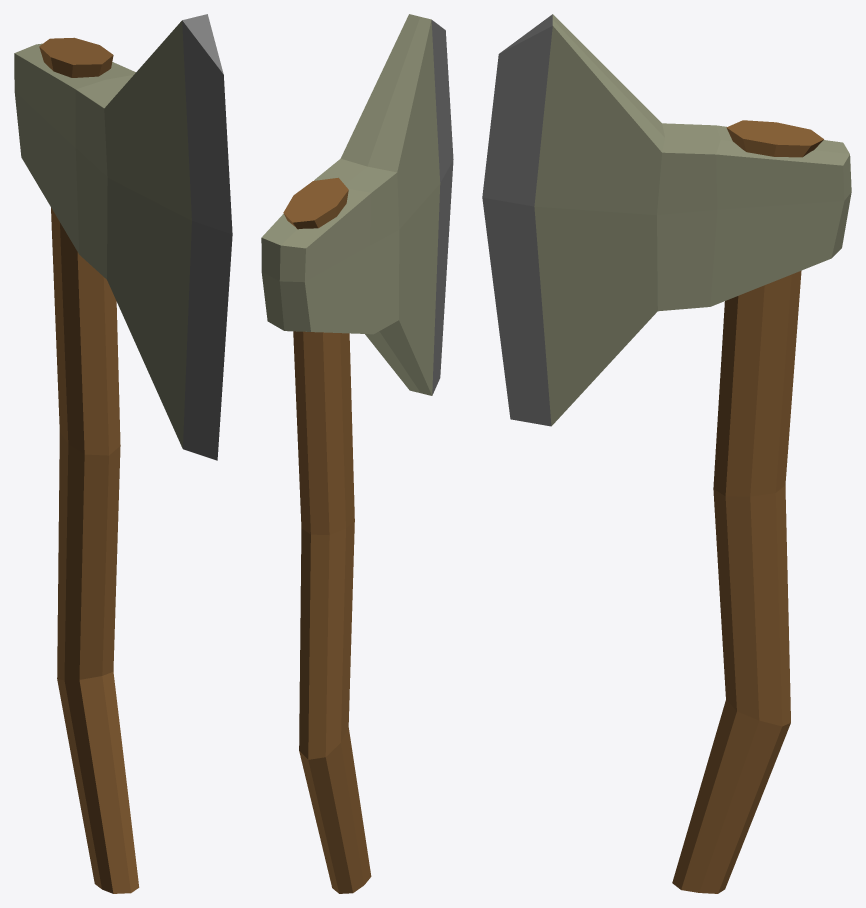
The model's file is Axe2.glb.
3 views of the same model, side by side, from view 1: azimuth 30°, elevation 25°; view 2: azimuth 150°, elevation 25°; view 3: azimuth 270°, elevation 25° (orthographic). The views are drawn at different scales.
Visible parts, largest first — view 1: weapon_generator; view 2: weapon_generator; view 3: weapon_generator.
Part boxes in pixels (x1,y1,x2,y2): weapon_generator: [14, 14, 232, 893]; weapon_generator: [261, 14, 453, 893]; weapon_generator: [482, 14, 851, 893].
Size of the model in its own units: 0.0753 by 1.04 by 0.3997.
